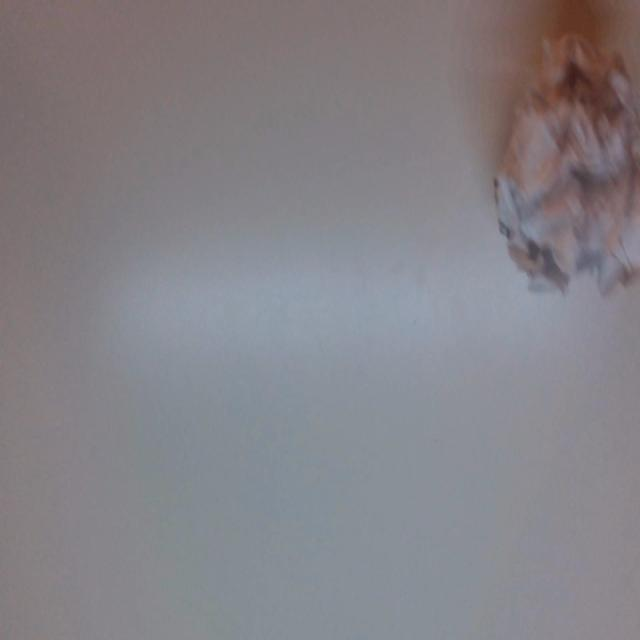Paper: (498, 1, 638, 292)
